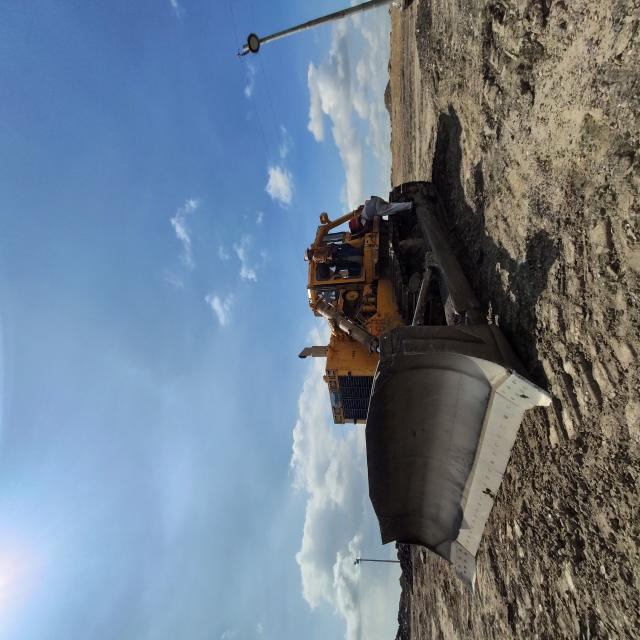buldozerpayloadergrader: (41, 406, 342, 640)
